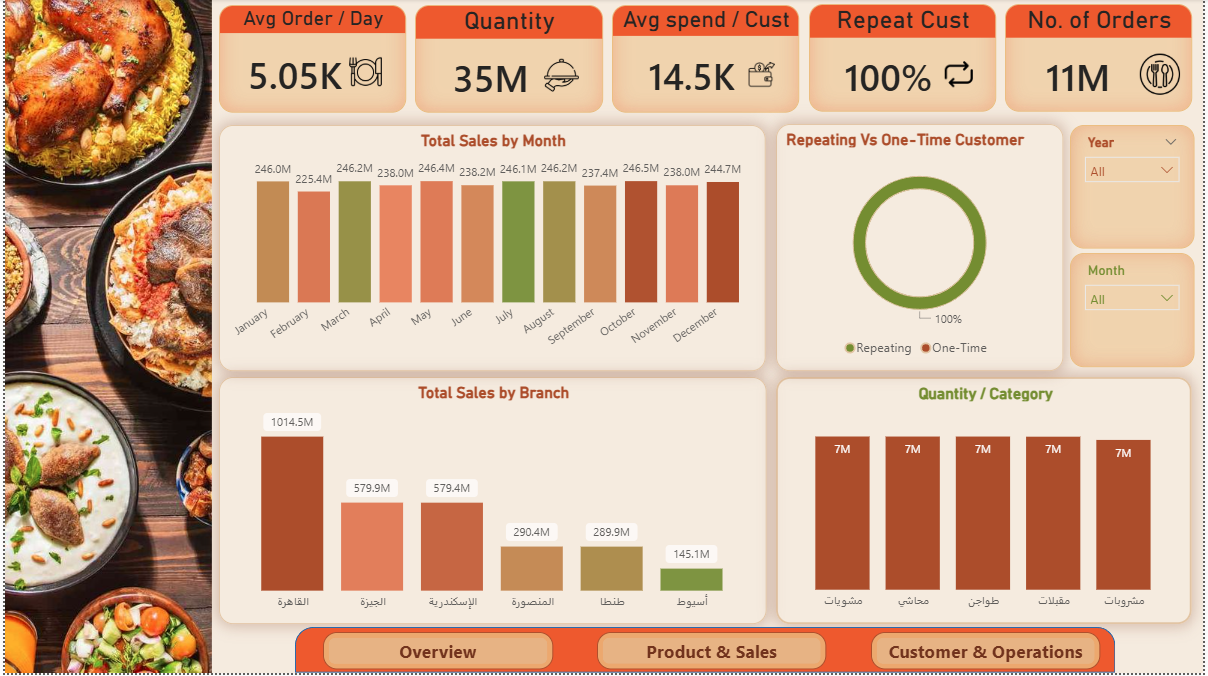

This screenshot's page, from the dashboard's own definition file:
{"tool":"powerbi","page":{"name":"Customer & Operations","canvas":[1280,720],"ordinal":2},"visuals":[{"type":"image","box":[0,0,221,720.3],"z":0},{"type":"cardVisual","title":"Avg spend / Cust ","fields":{"Data":["Table_Measures.Avg Spend per Customer"]},"box":[648.8,6.9,200,115.4],"z":1000},{"type":"cardVisual","title":"Repeat Cust","fields":{"Data":["Table_Measures.Repeating Rate"]},"box":[858.6,5.8,200,115.4],"z":2000},{"type":"cardVisual","title":"No. of Orders","fields":{"Data":["Table_Measures.No. of Orders"]},"box":[1068.5,5.8,200,115.4],"z":3000},{"type":"columnChart","title":"Quantity / Category ","fields":{"Y":["Table_Measures.Quantity"],"Category":["dim_product.category"]},"box":[823.8,403.8,444.2,264.2],"z":4000},{"type":"donutChart","title":"Repeating Vs One-Time Customer","fields":{"Y":["Table_Measures.Repeating Customers","Table_Measures.One-Time Customers"]},"box":[823.8,133.8,306.9,264.2],"z":5000},{"type":"lineStackedColumnComboChart","title":"Total Sales by Branch","fields":{"Category":["dim_brach.branch"],"Y":["Table_Measures.Total Sales"]},"box":[228.5,403.8,585,264.2],"z":6000},{"type":"cardVisual","title":" Avg Order / Day","fields":{"Data":["Table_Measures.Avg Orders / Day"]},"box":[228.5,6.9,200,115.4],"z":7000},{"type":"slicer","title":"00","fields":{"Values":["dim_date.year"]},"box":[1137.7,135,132.7,131.5],"z":8000},{"type":"slicer","title":"00","fields":{"Values":["dim_date.Month"]},"box":[1137.7,271.2,132.7,122.3],"z":9000},{"type":"shape","box":[310,671.2,876.2,48.8],"z":10000},{"type":"shape","box":[339.2,676.2,245.8,40.4],"z":11000},{"type":"shape","box":[632.7,676.2,245,40],"z":12000},{"type":"shape","box":[925.4,676.2,245,40.4],"z":13000},{"type":"cardVisual","title":"Quantity","fields":{"Data":["Table_Measures.Quantity"]},"box":[438.3,6.7,200.6,115],"z":14000},{"type":"columnChart","fields":{"Y":["Table_Measures.Total Sales"],"Category":["dim_date.Month"]},"box":[228.7,135.1,584.5,263.5],"z":15000}]}

Visuals, with their boxes in screenshot pixels (x1, y1, x2, y2), scaled from the page's 1280x720 canvas onto the 1208x676 screenshot:
image: (left=0, top=0, right=209, bottom=675)
"Avg spend / Cust " cardVisual: (left=612, top=6, right=801, bottom=115)
"Repeat Cust" cardVisual: (left=810, top=5, right=999, bottom=114)
"No. of Orders" cardVisual: (left=1008, top=5, right=1197, bottom=114)
"Quantity / Category " columnChart: (left=777, top=379, right=1197, bottom=627)
"Repeating Vs One-Time Customer" donutChart: (left=777, top=126, right=1067, bottom=374)
"Total Sales by Branch" lineStackedColumnComboChart: (left=216, top=379, right=768, bottom=627)
" Avg Order / Day" cardVisual: (left=216, top=6, right=404, bottom=115)
"00" slicer: (left=1074, top=127, right=1199, bottom=250)
"00" slicer: (left=1074, top=255, right=1199, bottom=369)
shape: (left=293, top=630, right=1119, bottom=675)
shape: (left=320, top=635, right=552, bottom=673)
shape: (left=597, top=635, right=828, bottom=672)
shape: (left=873, top=635, right=1105, bottom=673)
"Quantity" cardVisual: (left=414, top=6, right=603, bottom=114)
columnChart - Table_Measures.Total Sales x dim_date.Month: (left=216, top=127, right=767, bottom=374)
